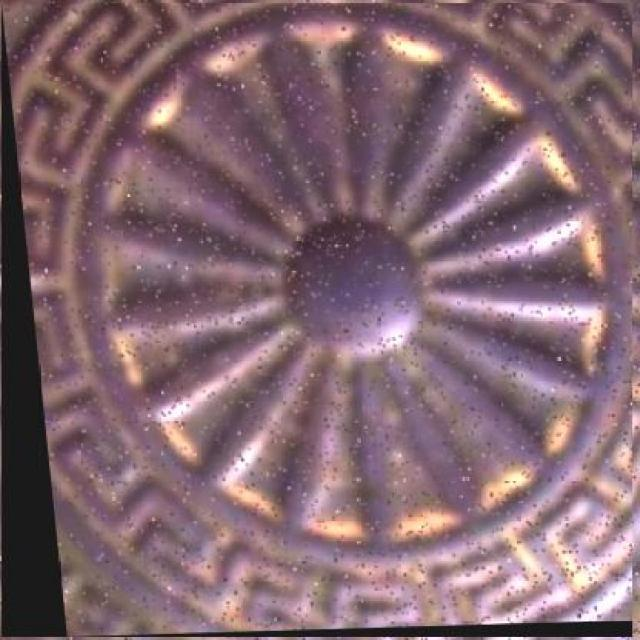Manhole: (1, 2, 632, 636)
